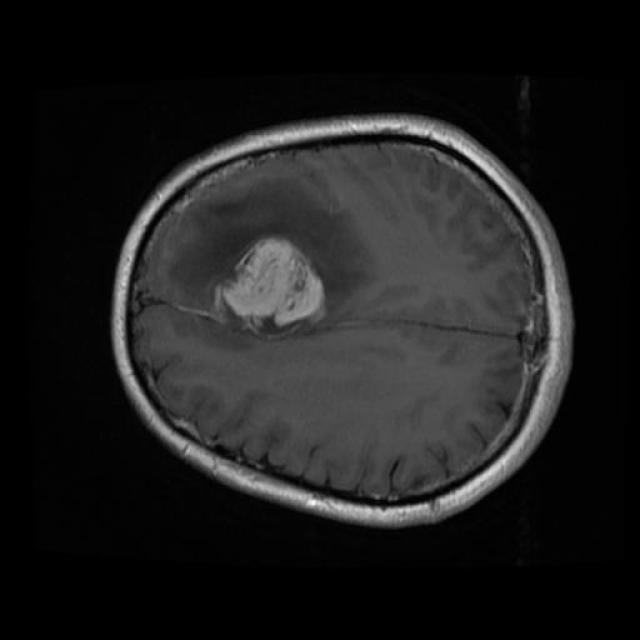Meningioma: (214, 238, 324, 333)
